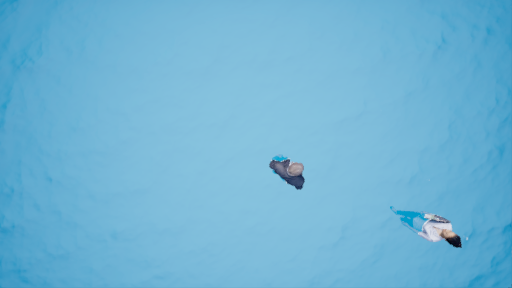person: (386, 207, 466, 251), (270, 154, 306, 191)
